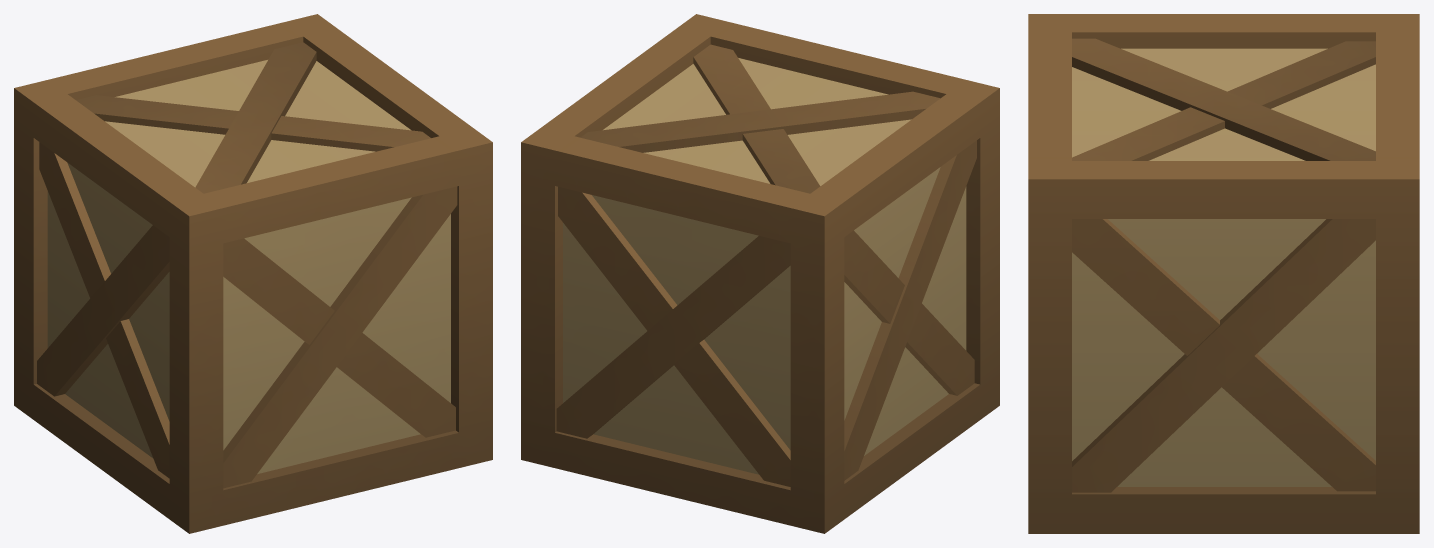
Rendered from Crate002.fbx.
3 views of the same model, side by side, from view 1: azimuth 30°, elevation 25°; view 2: azimuth 150°, elevation 25°; view 3: azimuth 270°, elevation 25° (orthographic). The views are drawn at different scales.
Parts seen in each view (by area): view 1: Cube.017; view 2: Cube.017; view 3: Cube.017.
Boxes of the visible parts, box(x1,y1,x2,y2) form: Cube.017: box(14, 14, 492, 533); Cube.017: box(521, 14, 999, 533); Cube.017: box(1028, 14, 1419, 533).
Size of the model in its own units: 78.21 by 78.21 by 78.21.
